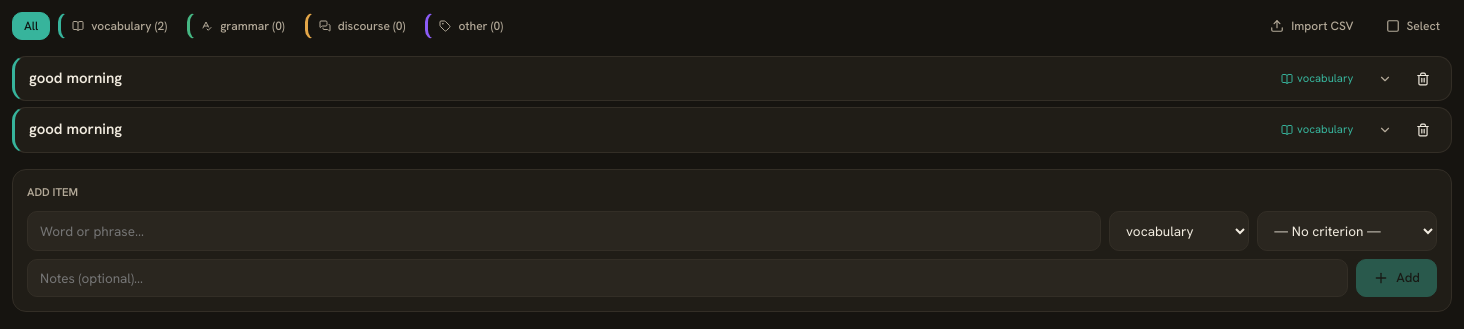
Test: VocabularyListEditor › deselects all when clicking select-all twice
This screenshot has width=1464, height=329.
Step 1. Click the button "Select" → [1413, 26], box x1=1374 y1=12 x2=1452 y2=40
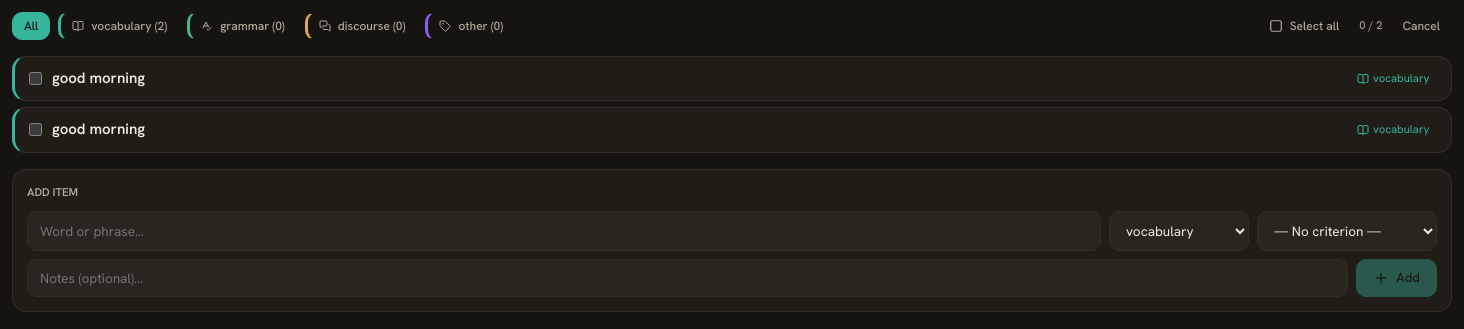
Step 2. Click the button "Select all" → [1304, 26], box x1=1257 y1=12 x2=1351 y2=40
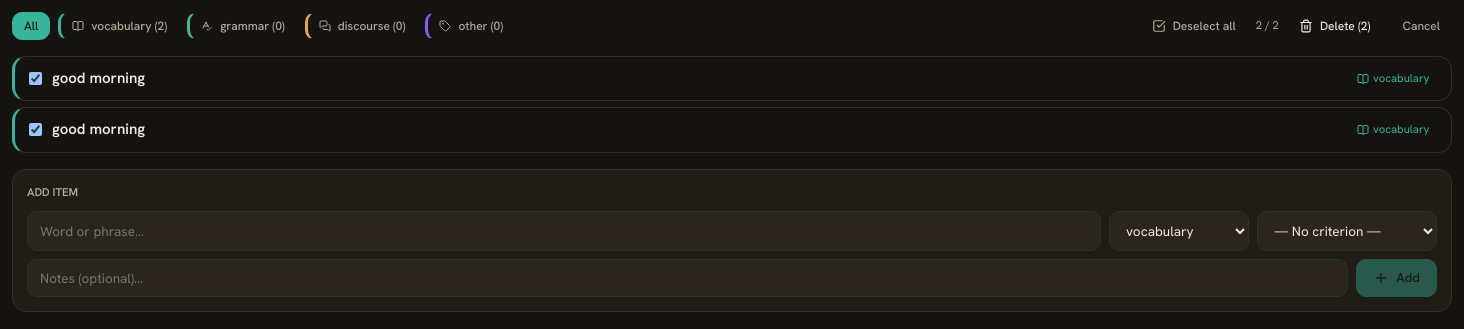
Expected: the text "2 / 2" is shown, x1=1256 y1=17 x2=1279 y2=35
Step 3. Click the button "Deselect all" → [1194, 26], box x1=1140 y1=12 x2=1248 y2=40
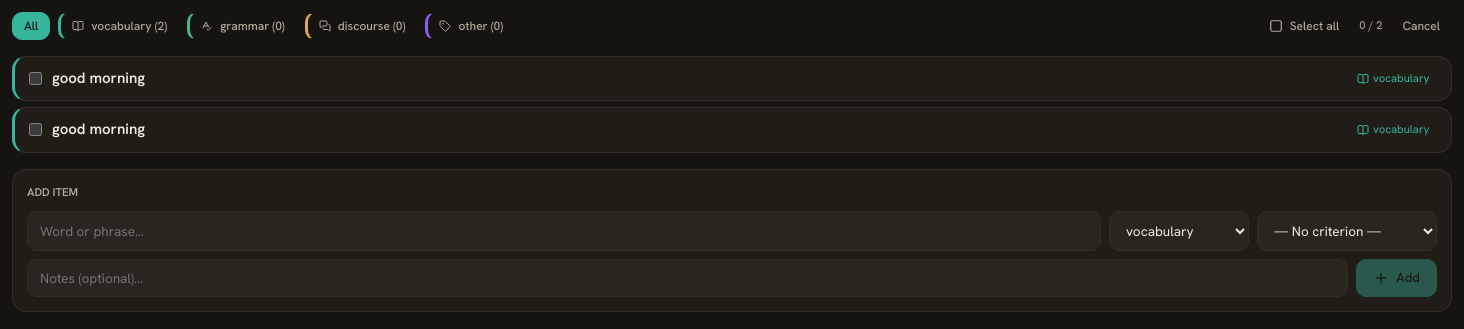
Expected: the text "0 / 2" is shown, x1=1359 y1=17 x2=1382 y2=35
